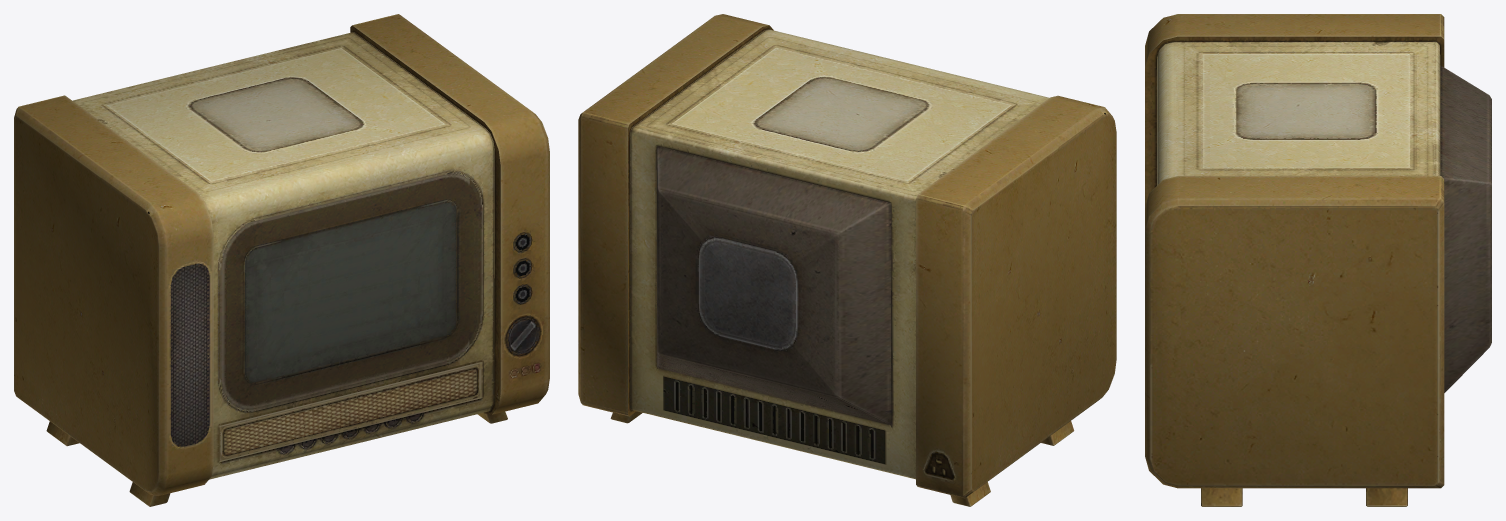
File: prop_retroTelevision.glb
The picture shows the model from 3 angles, left to right: view 1: azimuth 30°, elevation 25°; view 2: azimuth 150°, elevation 25°; view 3: azimuth 270°, elevation 25°; orthographic projection.
Parts seen in each view (by area): view 1: prop_retroTelevision; view 2: prop_retroTelevision; view 3: prop_retroTelevision.
Boxes of the visible parts, x1,y1,x2,y2 form: prop_retroTelevision: [14, 14, 549, 506]; prop_retroTelevision: [578, 14, 1116, 506]; prop_retroTelevision: [1145, 14, 1491, 506].
Size of the model in its own units: 0.822 by 0.6329 by 0.634.
1 material, 1 textured.
